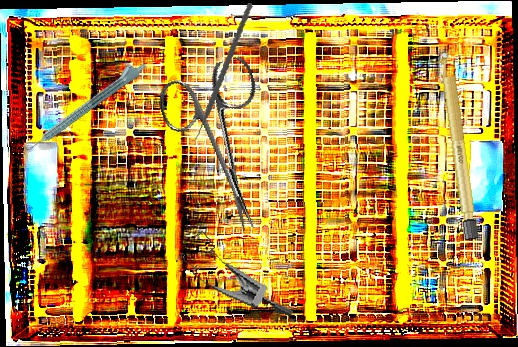Chopper: (162, 2, 274, 143)
Handpiece: (20, 55, 149, 156)
Iris Scissors: (152, 53, 298, 245)
Scalpel Handle: (437, 46, 480, 243)
Speculum: (169, 226, 307, 319)
